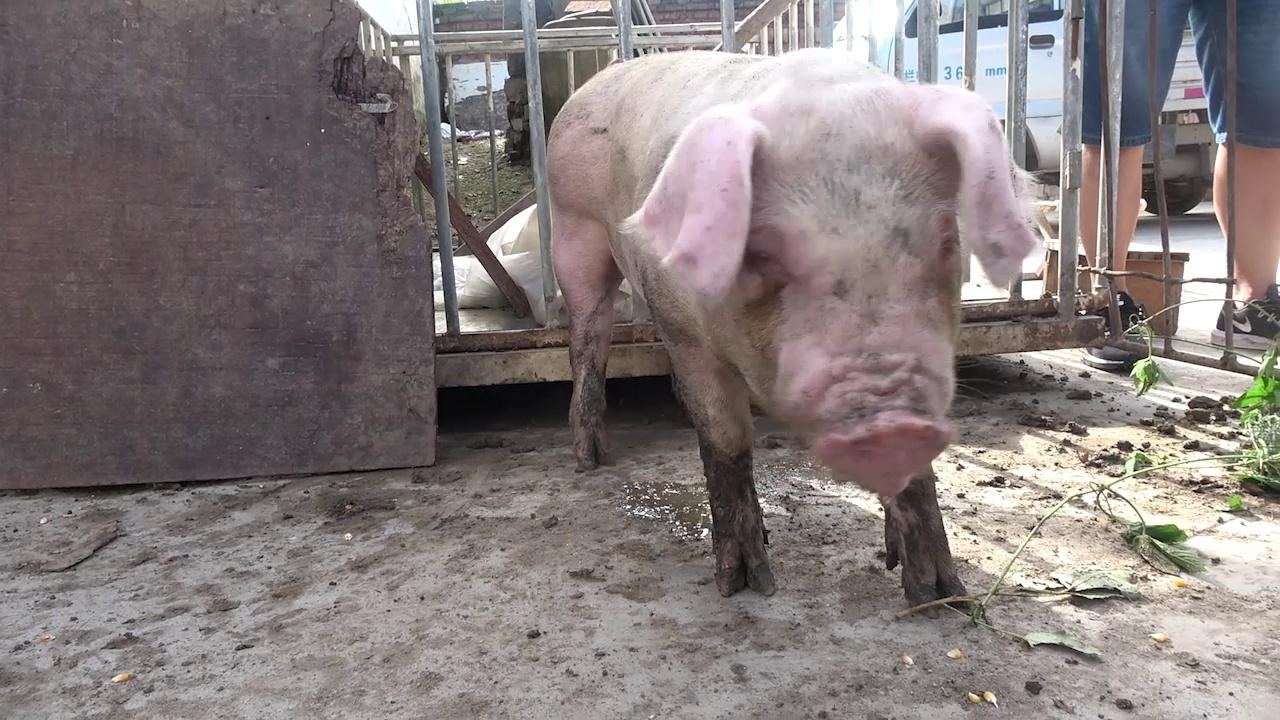Face: (615, 79, 1046, 503)
